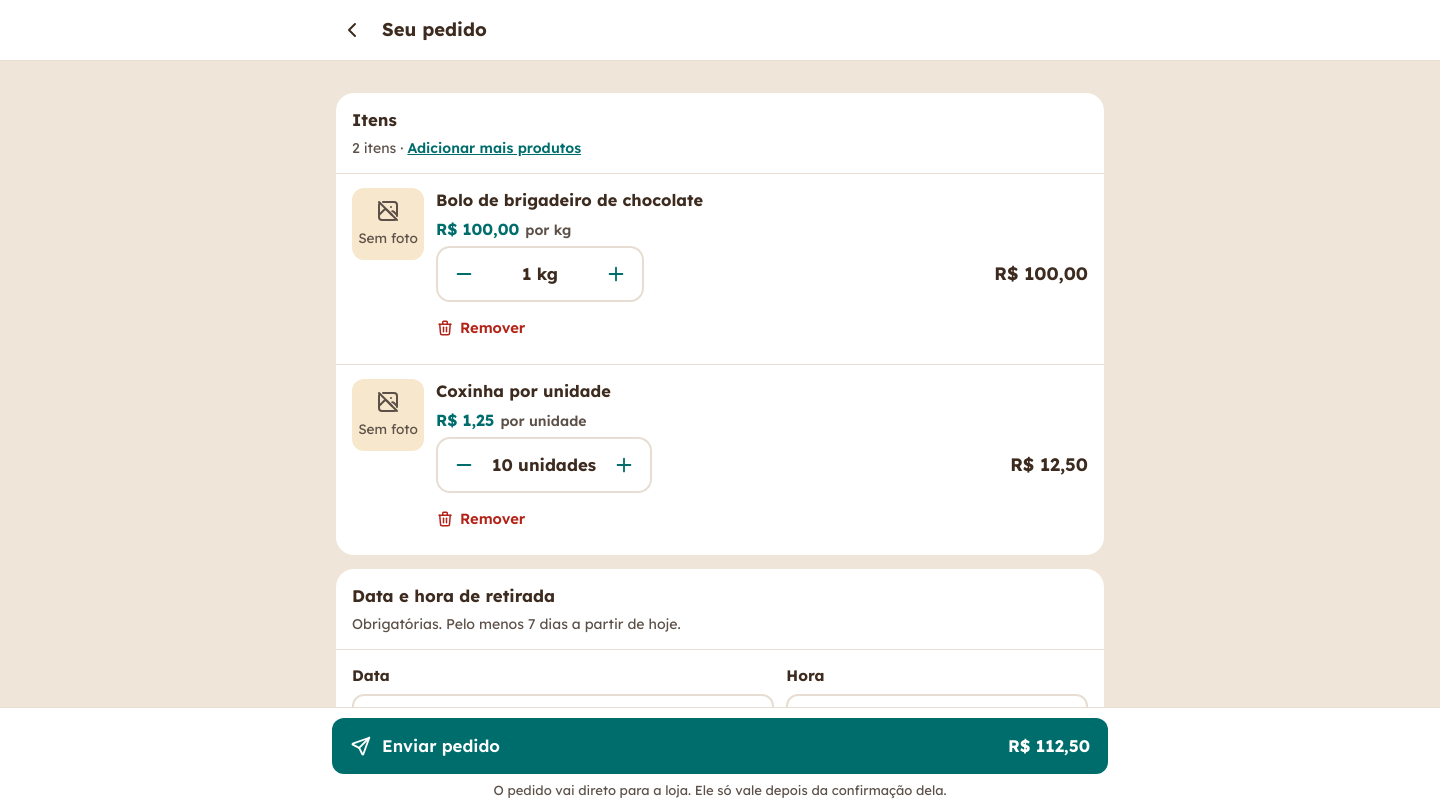
it: montagem do pedido no cardápio público (ZAP-107) › no "Seu pedido", altera a quantidade, remove itens e o total acompanha
Click the button named "Aumentar quantidade" next to "1 kg" at (616, 274), box [592,250,640,298]
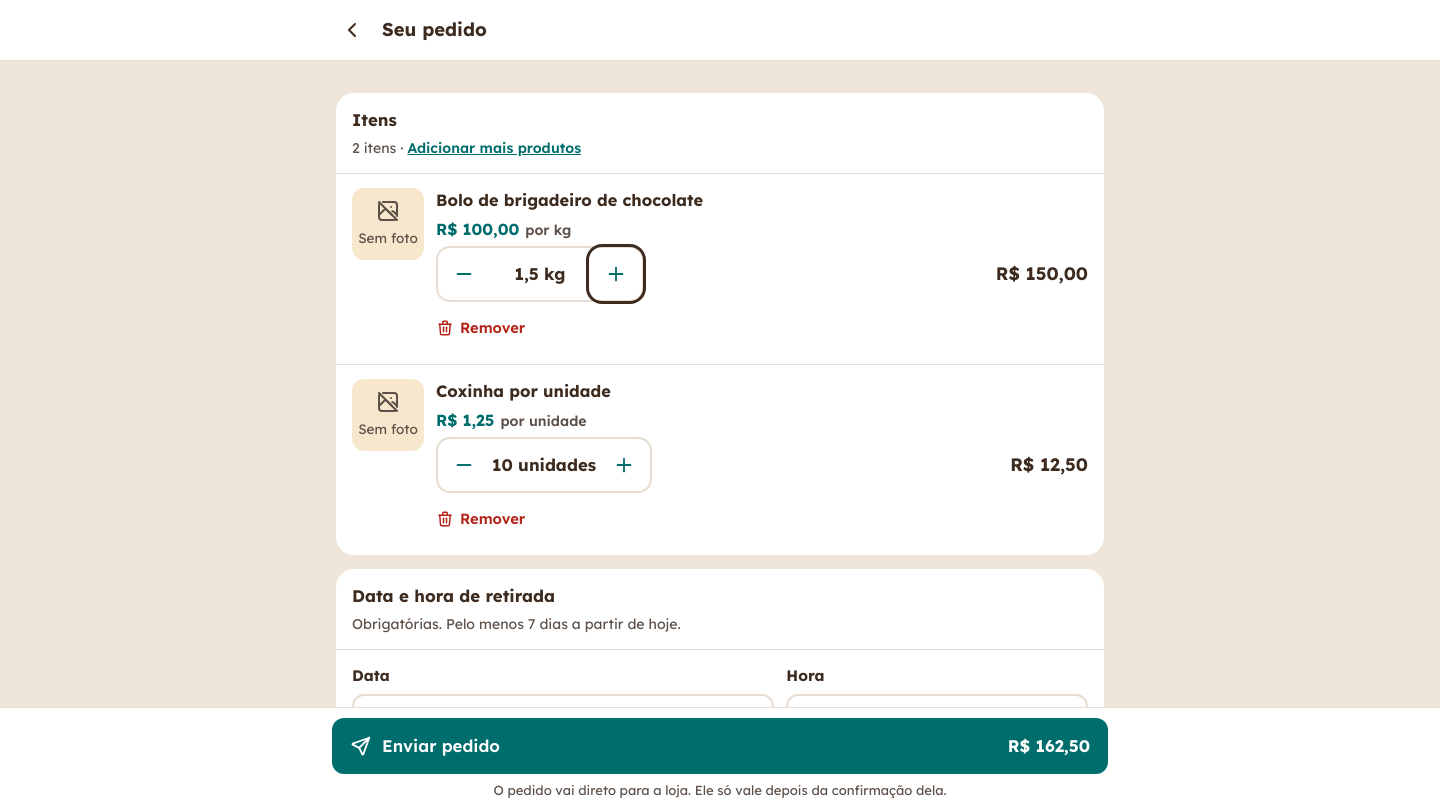
Click the button with aria-label "Remover Coxinha por unidade" at (481, 519), box [436,497,525,541]
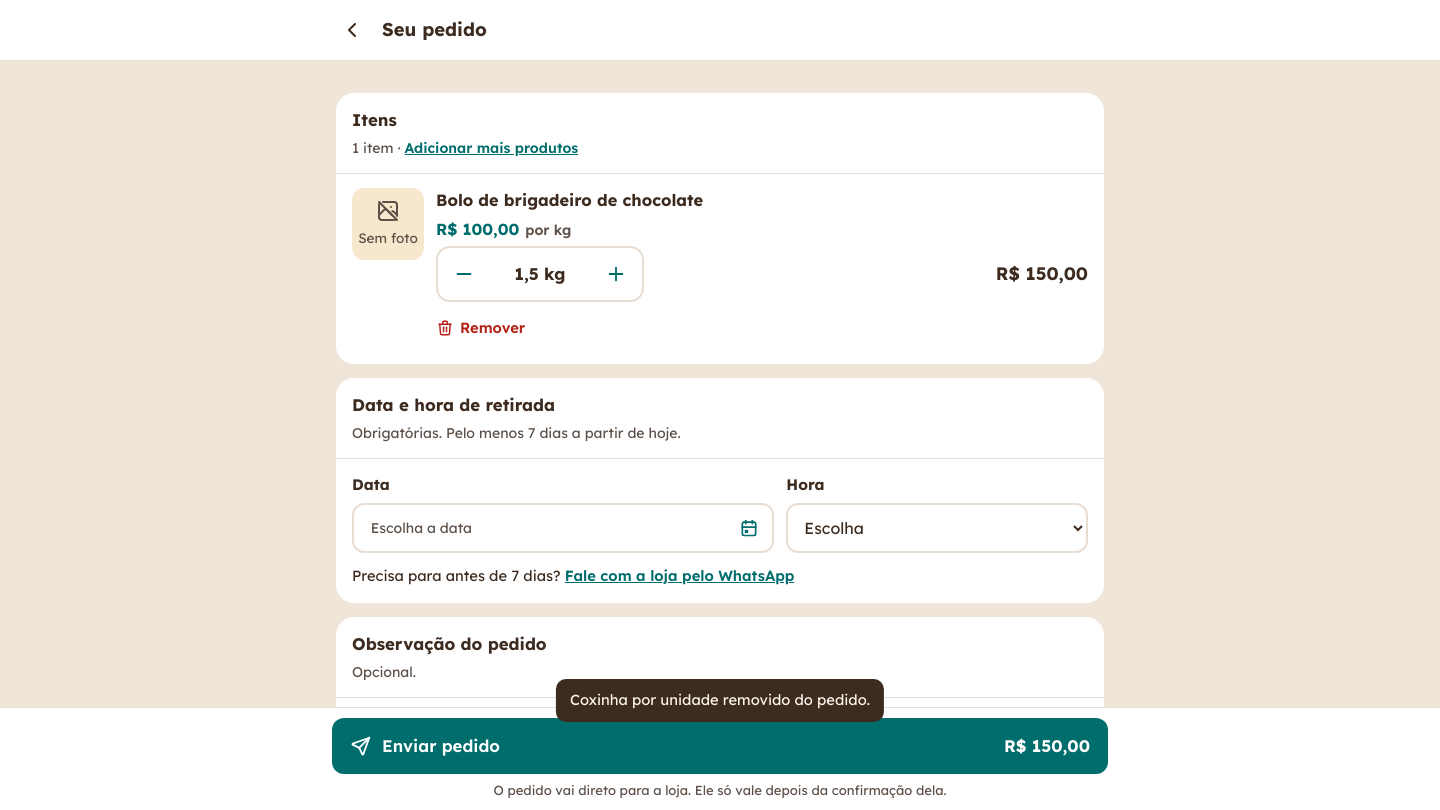
Now the text "Coxinha por unidade removido do pedido." is shown, box [556,679,884,722]
